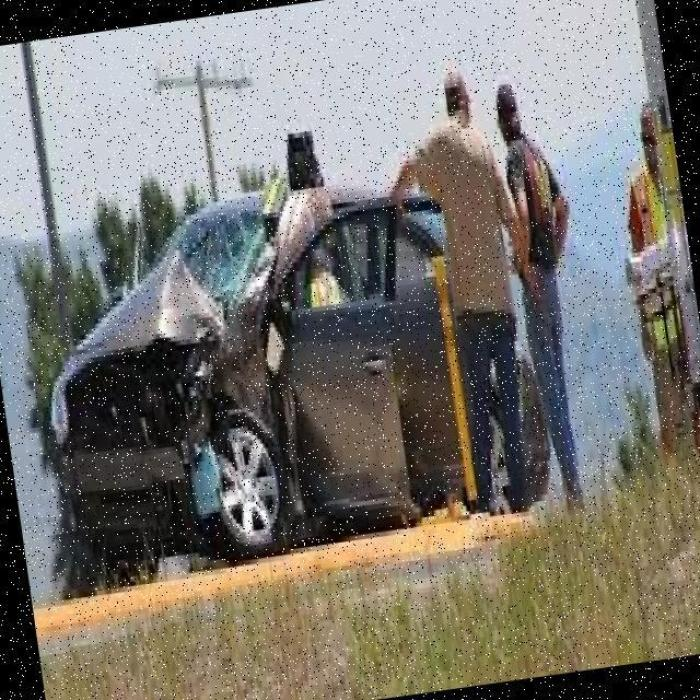Accident: (11, 99, 441, 566)
